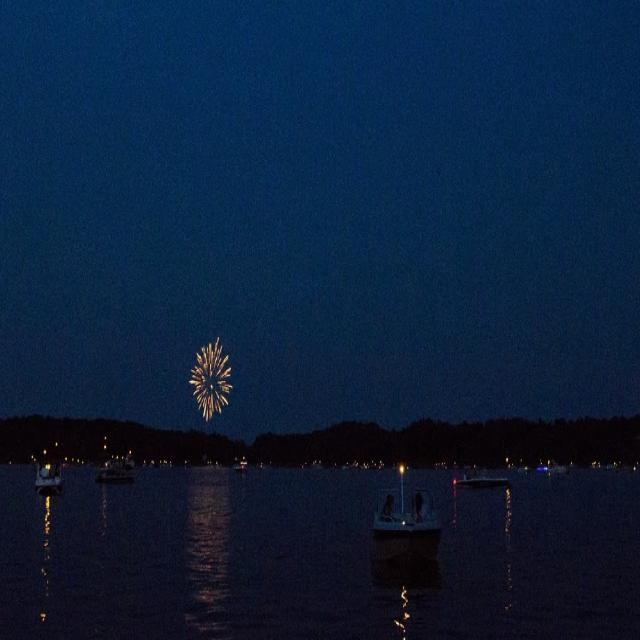Boat: (373, 454, 441, 574), (87, 433, 152, 501), (453, 458, 508, 508), (37, 449, 65, 503)
